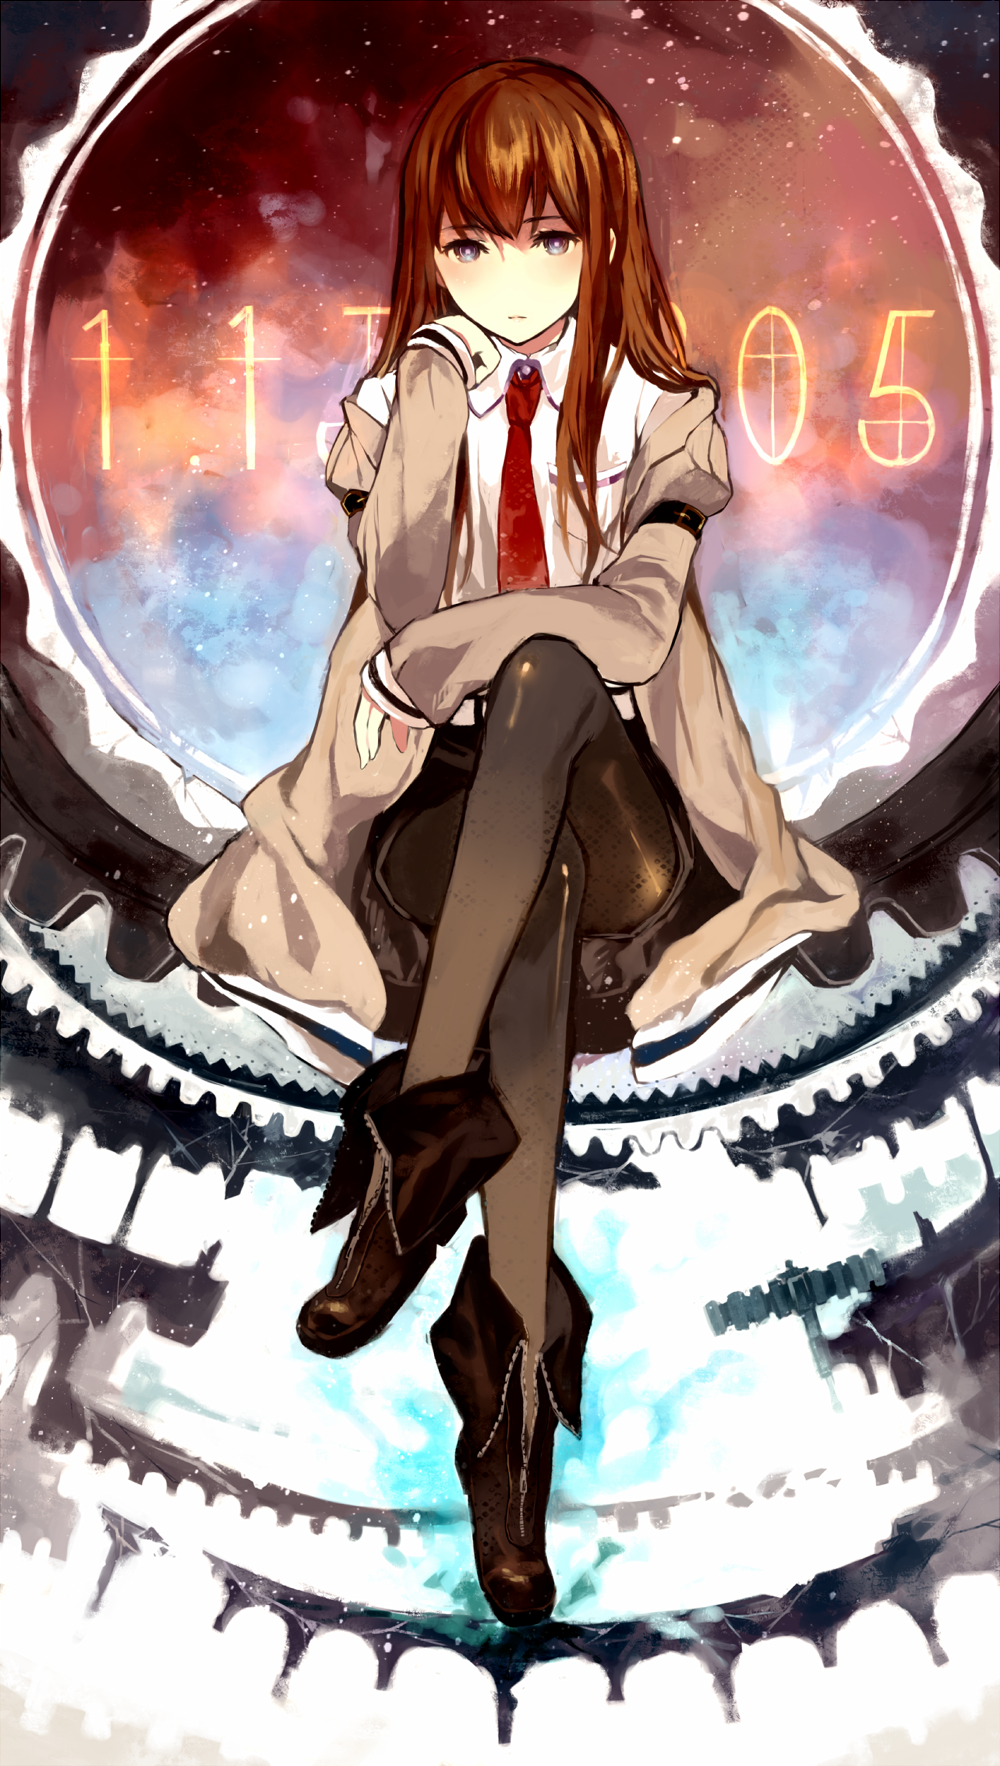纸片人正脸: (379, 45, 668, 356)
